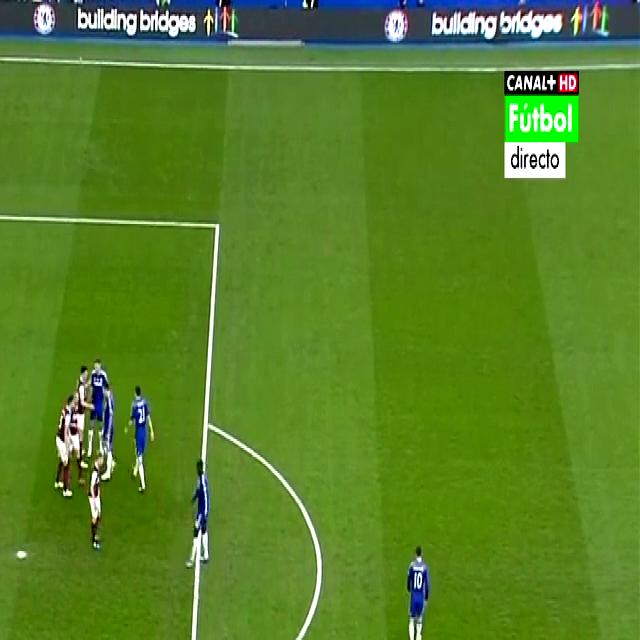soccer-player: (122, 381, 164, 498), (396, 531, 438, 640), (186, 438, 216, 577), (66, 346, 94, 478), (80, 354, 110, 448), (49, 387, 72, 504), (88, 458, 112, 545), (0, 452, 2, 572)
